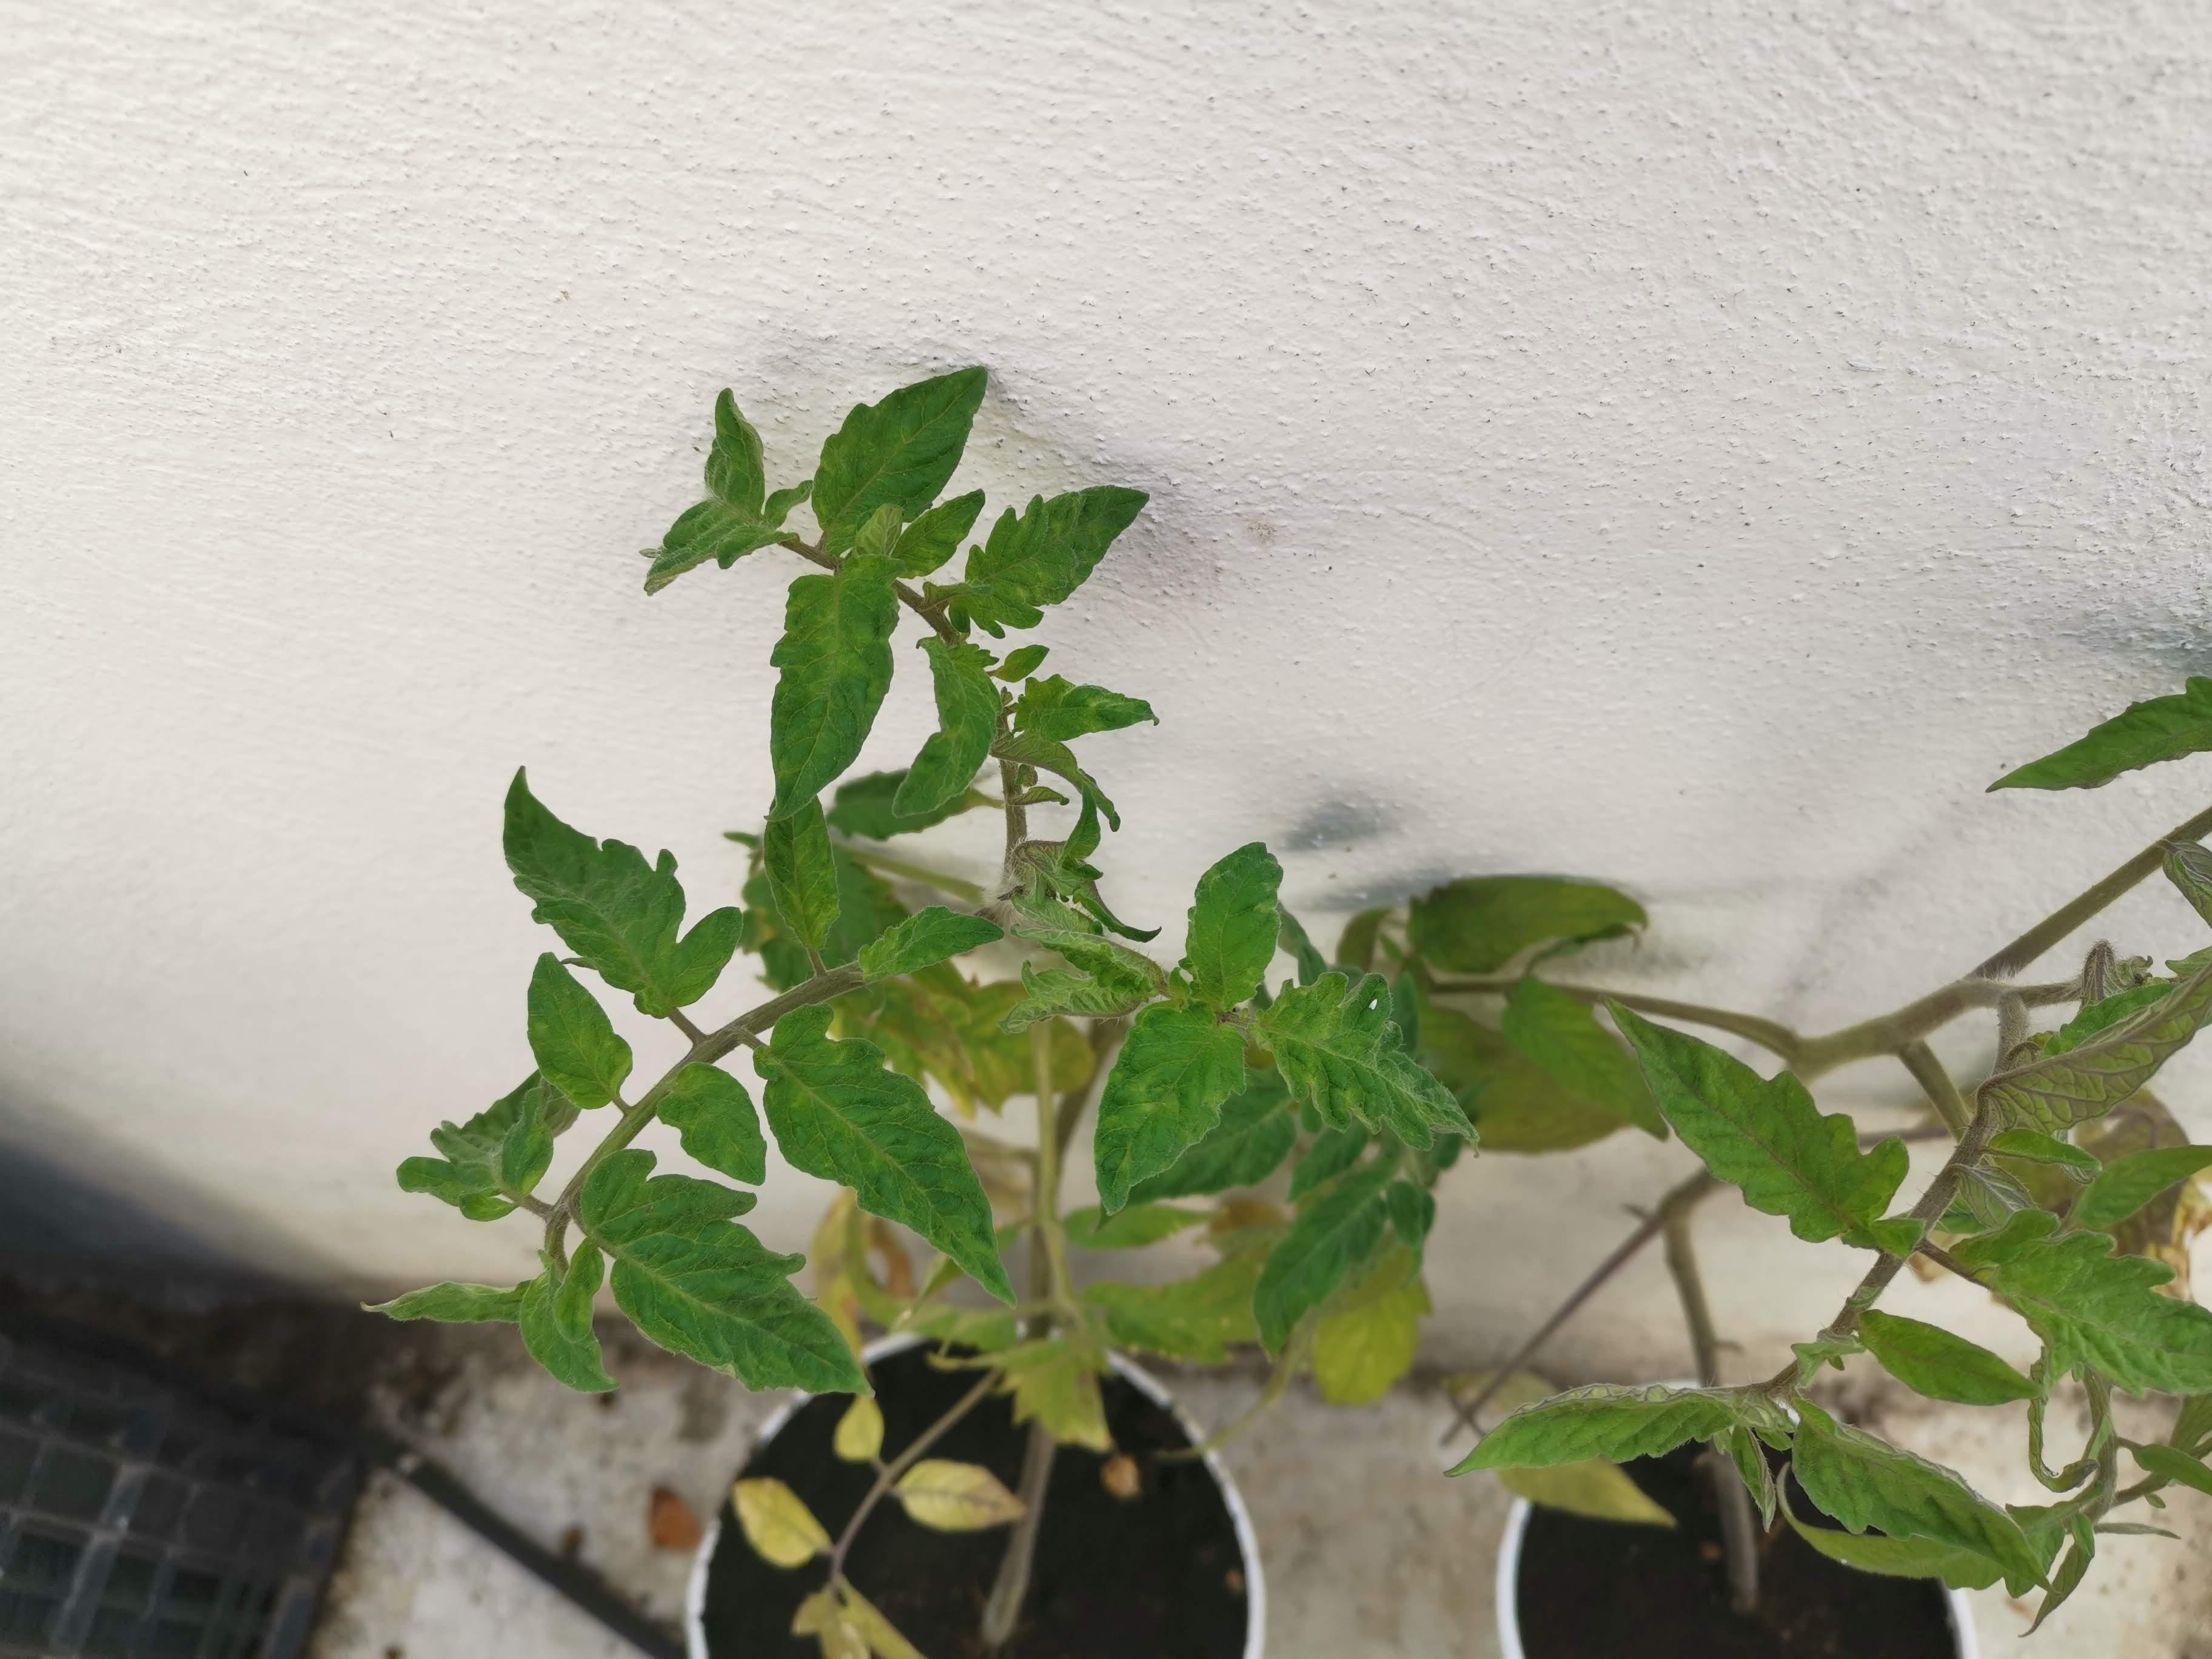Hoja: (503, 763, 744, 1019), (362, 1248, 624, 1394), (1987, 1232, 2212, 1396), (639, 389, 813, 594), (810, 364, 988, 558)
Hoja rugoso: (1601, 995, 1925, 1260), (754, 1000, 1019, 1310), (549, 1148, 876, 1396), (1449, 1385, 1797, 1527), (1792, 1399, 2043, 1595), (1245, 971, 1480, 1162), (1979, 964, 2212, 1133), (1094, 969, 1251, 1218), (759, 554, 906, 821), (923, 484, 1150, 640), (395, 1066, 582, 1222), (888, 634, 1003, 819), (991, 920, 1162, 1037), (1005, 809, 1155, 941), (1179, 842, 1284, 1012), (528, 951, 631, 1108), (655, 1060, 766, 1185), (759, 795, 838, 950), (859, 904, 1003, 983), (1012, 674, 1160, 742), (890, 488, 984, 577)
Pedunculo: (542, 962, 867, 1256), (1883, 809, 2212, 1060), (1825, 1108, 1991, 1337), (1001, 763, 1026, 857)
